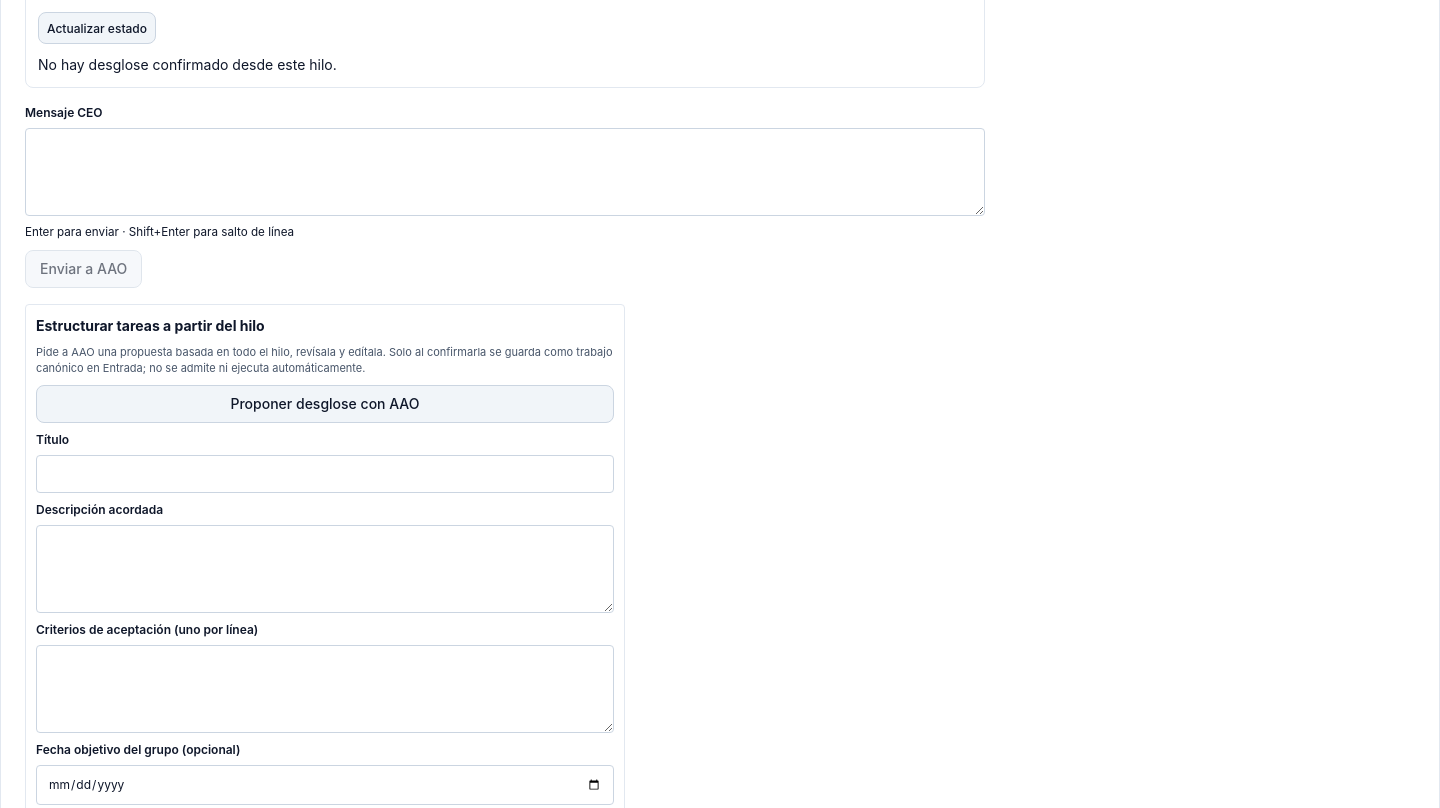
it: office persistent project conversation › asks AAO for a reviewable breakdown based on the whole persisted thread
The image size is (1440, 808).
(page scrolled)
Click the button "Proponer desglose con AAO" at (325, 404), box [36, 384, 614, 422]
(page scrolled)
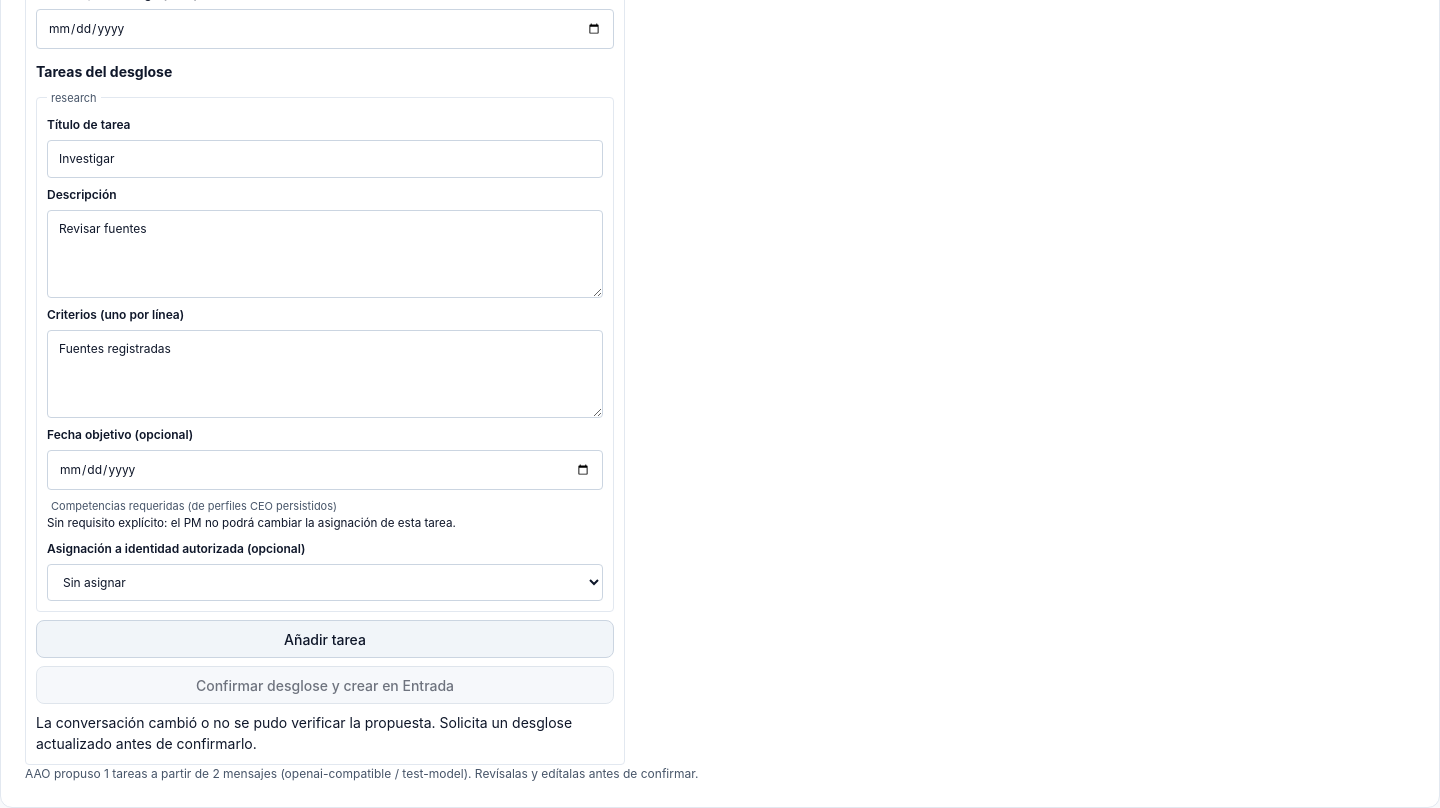
Check: the field showing "Investigar" is shown, box [47, 140, 603, 178]
Check: the text "a partir de 2 mensajes" is shown, box [25, 766, 698, 781]
